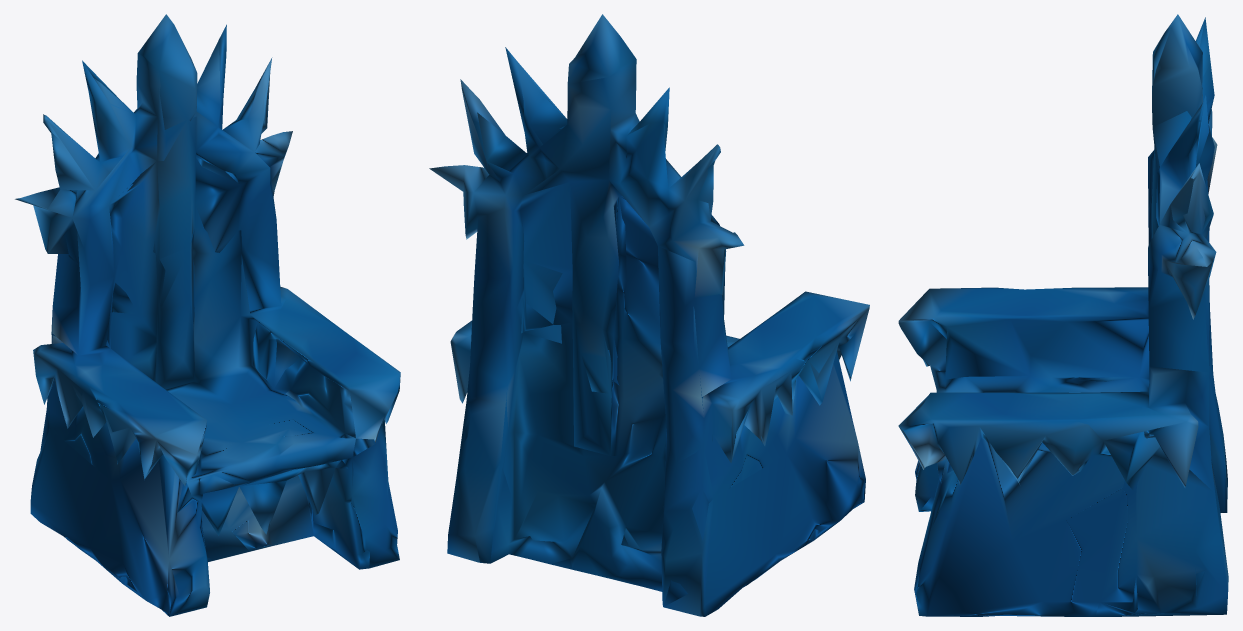
File: gen3d-ice-throne-lod0.glb
3 views of the same model, side by side, from view 1: azimuth 30°, elevation 25°; view 2: azimuth 150°, elevation 25°; view 3: azimuth 270°, elevation 25° (orthographic). The views are drawn at different scales.
Visible parts, largest first — view 1: part_0; view 2: part_0; view 3: part_0.
Boxes of the visible parts, x1,y1,x2,y2 form: part_0: [15, 14, 400, 616]; part_0: [429, 14, 869, 616]; part_0: [898, 14, 1228, 616].
Size of the model in its own units: 0.5953 by 1 by 0.5538.
